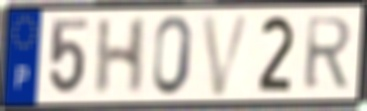0: (151, 14, 196, 98)
2: (257, 14, 296, 94)
5: (48, 17, 93, 98)
H: (92, 15, 150, 99)
R: (302, 14, 356, 93)
V: (199, 11, 255, 99)
